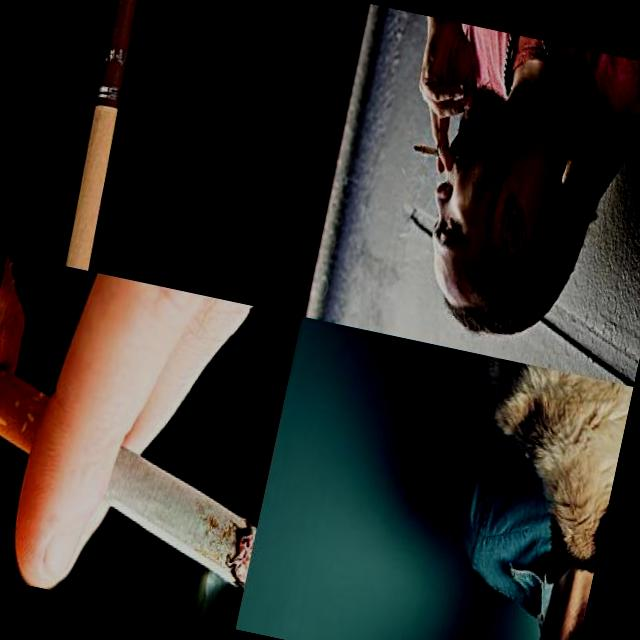cigarette: (0, 358, 278, 627), (52, 0, 162, 273), (408, 132, 462, 170)
